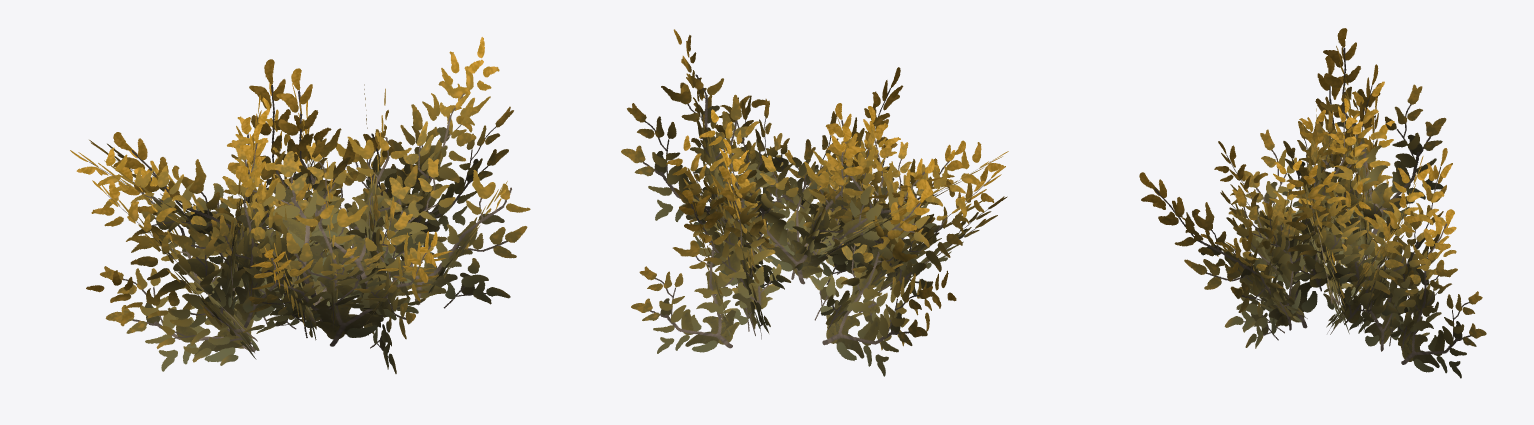
Rendered from SM_DesertBush04.fbx.
The picture shows the model from 3 angles, left to right: view 1: azimuth 30°, elevation 25°; view 2: azimuth 150°, elevation 25°; view 3: azimuth 270°, elevation 25°; orthographic projection. The views are drawn at different scales.
Parts seen in each view (by area): view 1: SM_DesertBush04; view 2: SM_DesertBush04; view 3: SM_DesertBush04.
Boxes of the visible parts, <box> form: SM_DesertBush04: <box>70,37,530,373</box>; SM_DesertBush04: <box>621,29,1008,376</box>; SM_DesertBush04: <box>1139,28,1486,378</box>.
Bounding box in the file's own units: 657 × 466 × 571.
